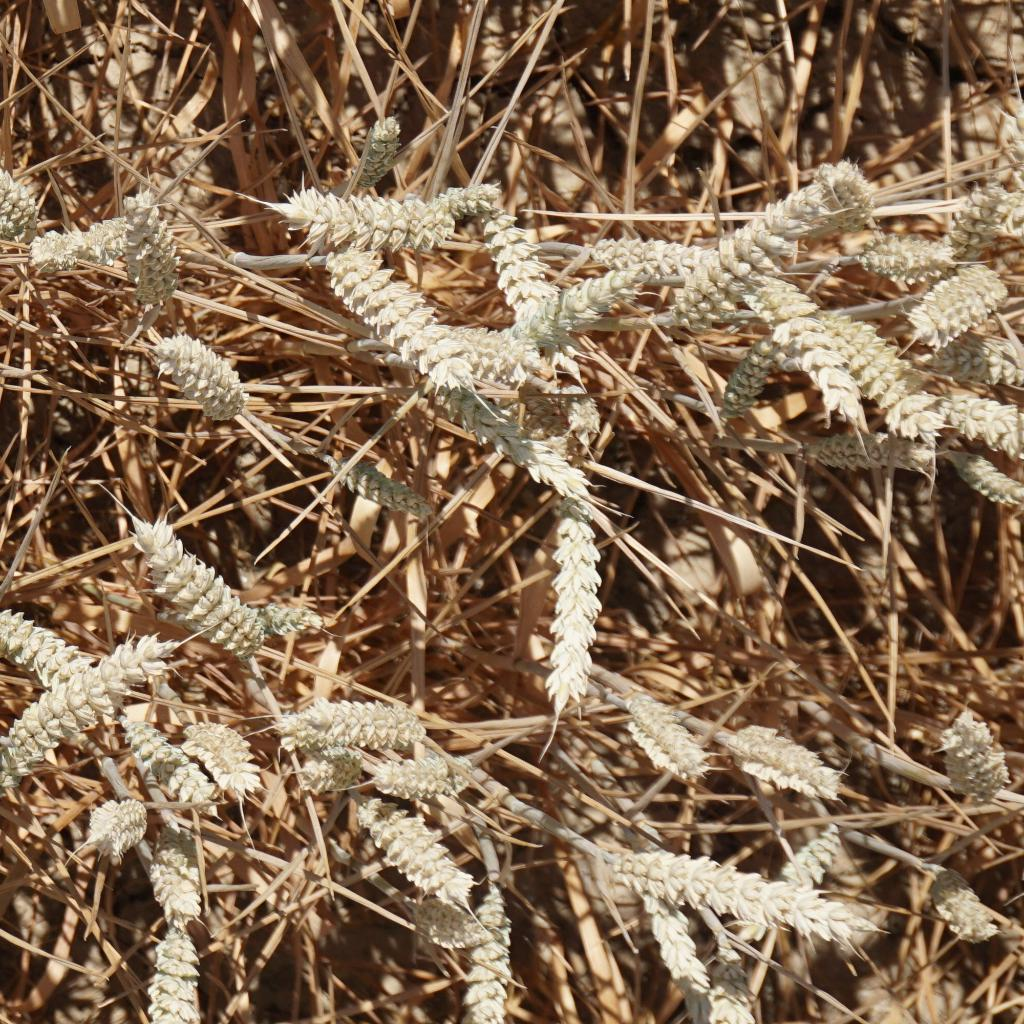0-0: (0, 628, 180, 802), (579, 833, 876, 937), (671, 183, 829, 338), (424, 376, 594, 502), (127, 508, 263, 661), (472, 203, 583, 382), (331, 251, 462, 387), (744, 271, 865, 417), (820, 317, 938, 436), (354, 792, 480, 900), (271, 182, 463, 252), (547, 510, 608, 717), (723, 714, 848, 806), (121, 180, 191, 312), (642, 897, 728, 1002), (121, 715, 214, 810), (627, 691, 718, 786), (156, 328, 243, 422), (542, 262, 649, 334), (815, 416, 934, 480), (465, 894, 523, 1024), (0, 608, 96, 686), (283, 694, 426, 746), (335, 451, 432, 521), (935, 378, 1022, 455), (684, 936, 758, 1024), (585, 232, 716, 281), (940, 705, 1016, 789), (433, 325, 541, 384), (375, 738, 478, 798), (186, 718, 265, 796), (949, 176, 1023, 259), (933, 866, 1001, 953), (948, 443, 1022, 516), (147, 934, 207, 1024), (860, 230, 949, 288), (724, 330, 784, 414), (916, 343, 1024, 389), (146, 845, 203, 929), (346, 113, 407, 190), (816, 161, 882, 232), (89, 797, 155, 861), (258, 590, 328, 650), (410, 893, 483, 950), (512, 377, 568, 447), (28, 223, 87, 284), (73, 210, 135, 268), (989, 93, 1024, 191), (783, 826, 846, 879), (0, 166, 42, 239), (301, 743, 363, 790), (428, 183, 500, 219)
